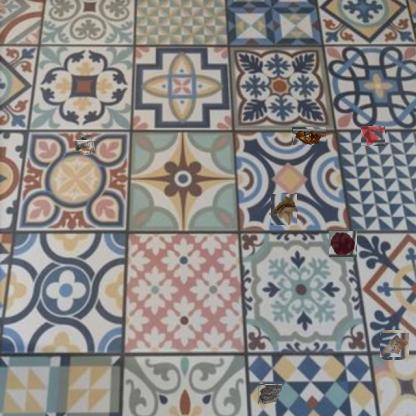dirty: (269, 195, 299, 224), (380, 332, 408, 358), (292, 128, 326, 146), (258, 384, 282, 404), (78, 138, 93, 153)
liquid: (329, 231, 357, 257), (361, 126, 385, 146)
